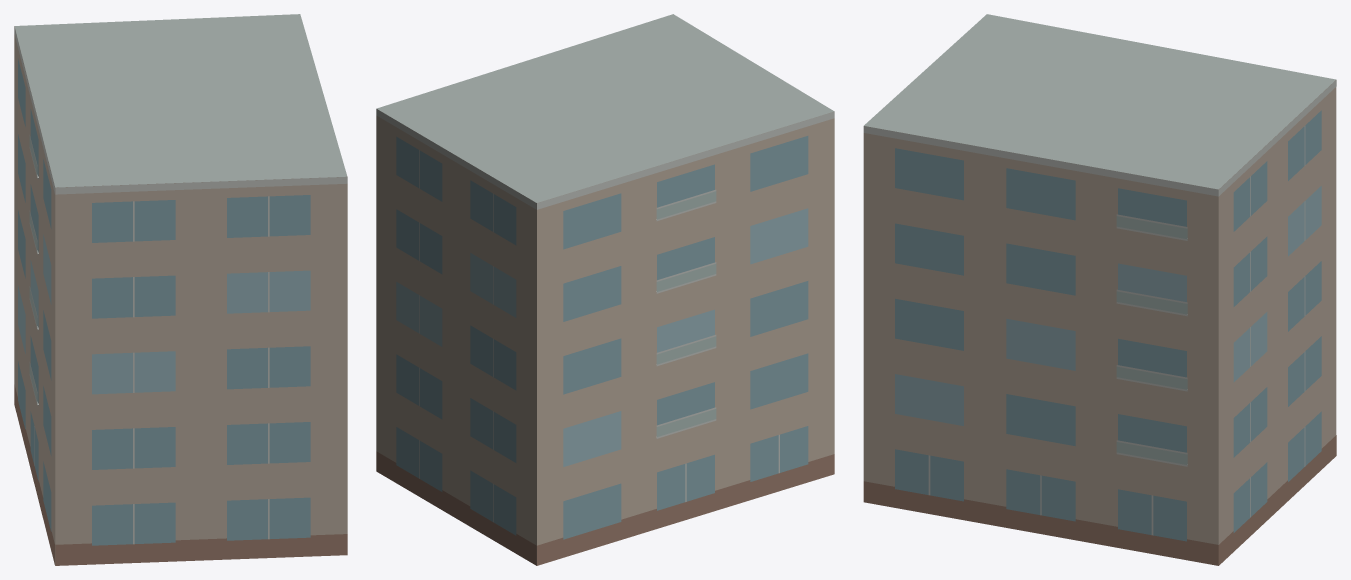
Rendered from survey-upis-32922981.glb.
The picture shows the model from 3 angles, left to right: view 1: azimuth 30°, elevation 25°; view 2: azimuth 150°, elevation 25°; view 3: azimuth 270°, elevation 25°; orthographic projection. The views are drawn at different scales.
Parts seen in each view (by area): view 1: survey-upis-32922981.tmp; view 2: survey-upis-32922981.tmp; view 3: survey-upis-32922981.tmp.
Boxes of the visible parts, <box> form: survey-upis-32922981.tmp: <box>14,14,347,565</box>; survey-upis-32922981.tmp: <box>376,14,834,565</box>; survey-upis-32922981.tmp: <box>863,14,1336,565</box>.
Size of the model in its own units: 13.08 by 13.07 by 14.89.
